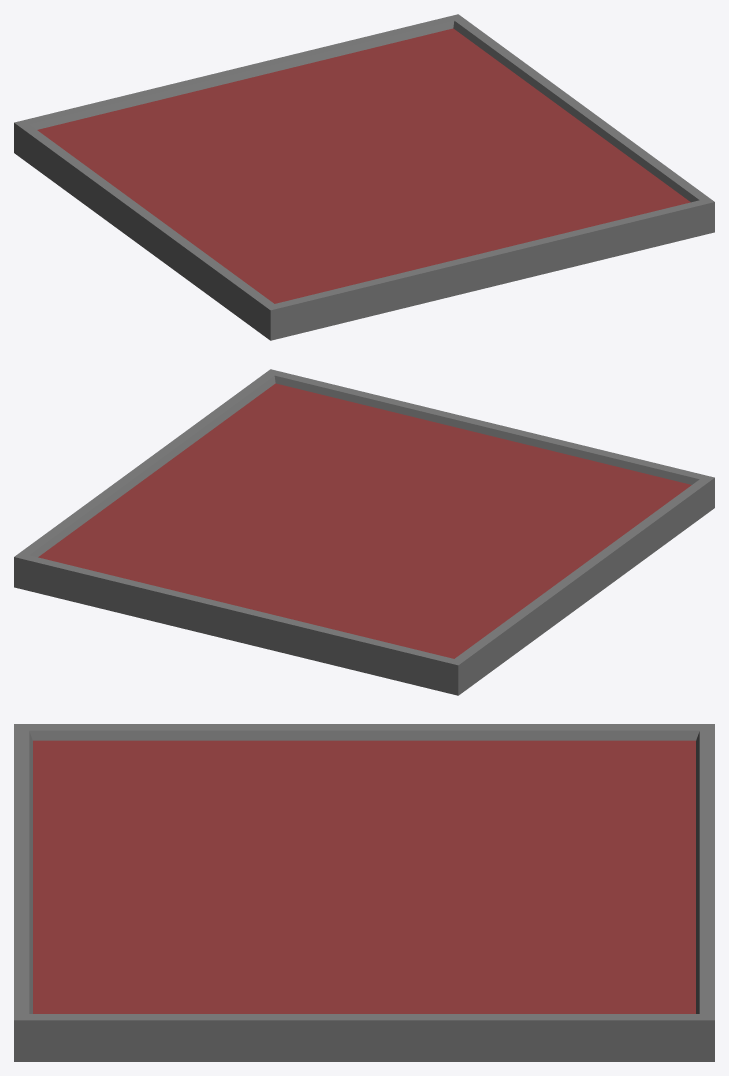
File: shuichi.fbx
3 views of the same model, one above another, from view 1: azimuth 30°, elevation 25°; view 2: azimuth 150°, elevation 25°; view 3: azimuth 270°, elevation 25° (orthographic). The views are drawn at different scales.
Parts seen in each view (by area): view 1: 对象002; view 2: 对象002; view 3: 对象002.
Boxes of the visible parts, left/top/right/bottom form: 对象002: left=14, top=14, right=714, bottom=340; 对象002: left=14, top=369, right=714, bottom=695; 对象002: left=14, top=724, right=714, bottom=1061.
Size of the model in its own units: 1516 by 99.16 by 1516.
